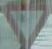Give way: (2, 3, 47, 48)
